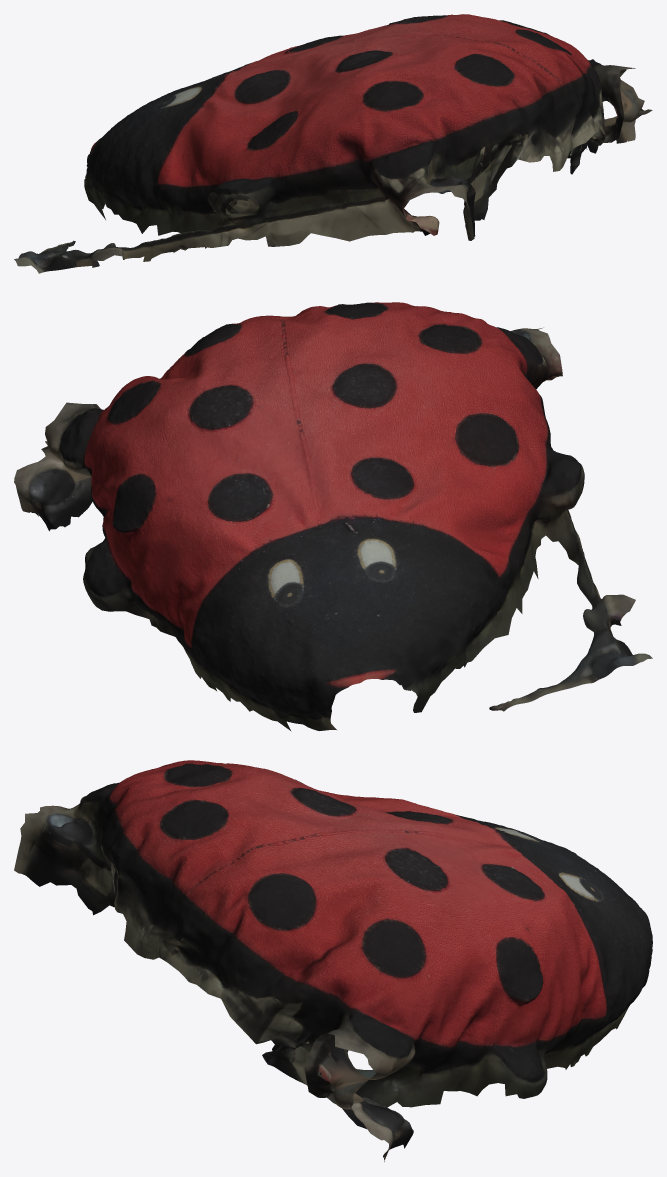
Rendered from cow.fbx.
3 renders of one model, top to bottom at view 1: azimuth 30°, elevation 25°; view 2: azimuth 150°, elevation 25°; view 3: azimuth 270°, elevation 25°, orthographic. The views are drawn at different scales.
Visible parts, largest first — view 1: Model; view 2: Model; view 3: Model.
Boxes of the visible parts, x1,y1,x2,y2 form: Model: (14, 14, 652, 273); Model: (14, 302, 652, 731); Model: (14, 760, 652, 1161).
Bounding box in the file's own units: 6.73 × 5.28 × 2.47.
Materials: 1 (1 with a texture image).
